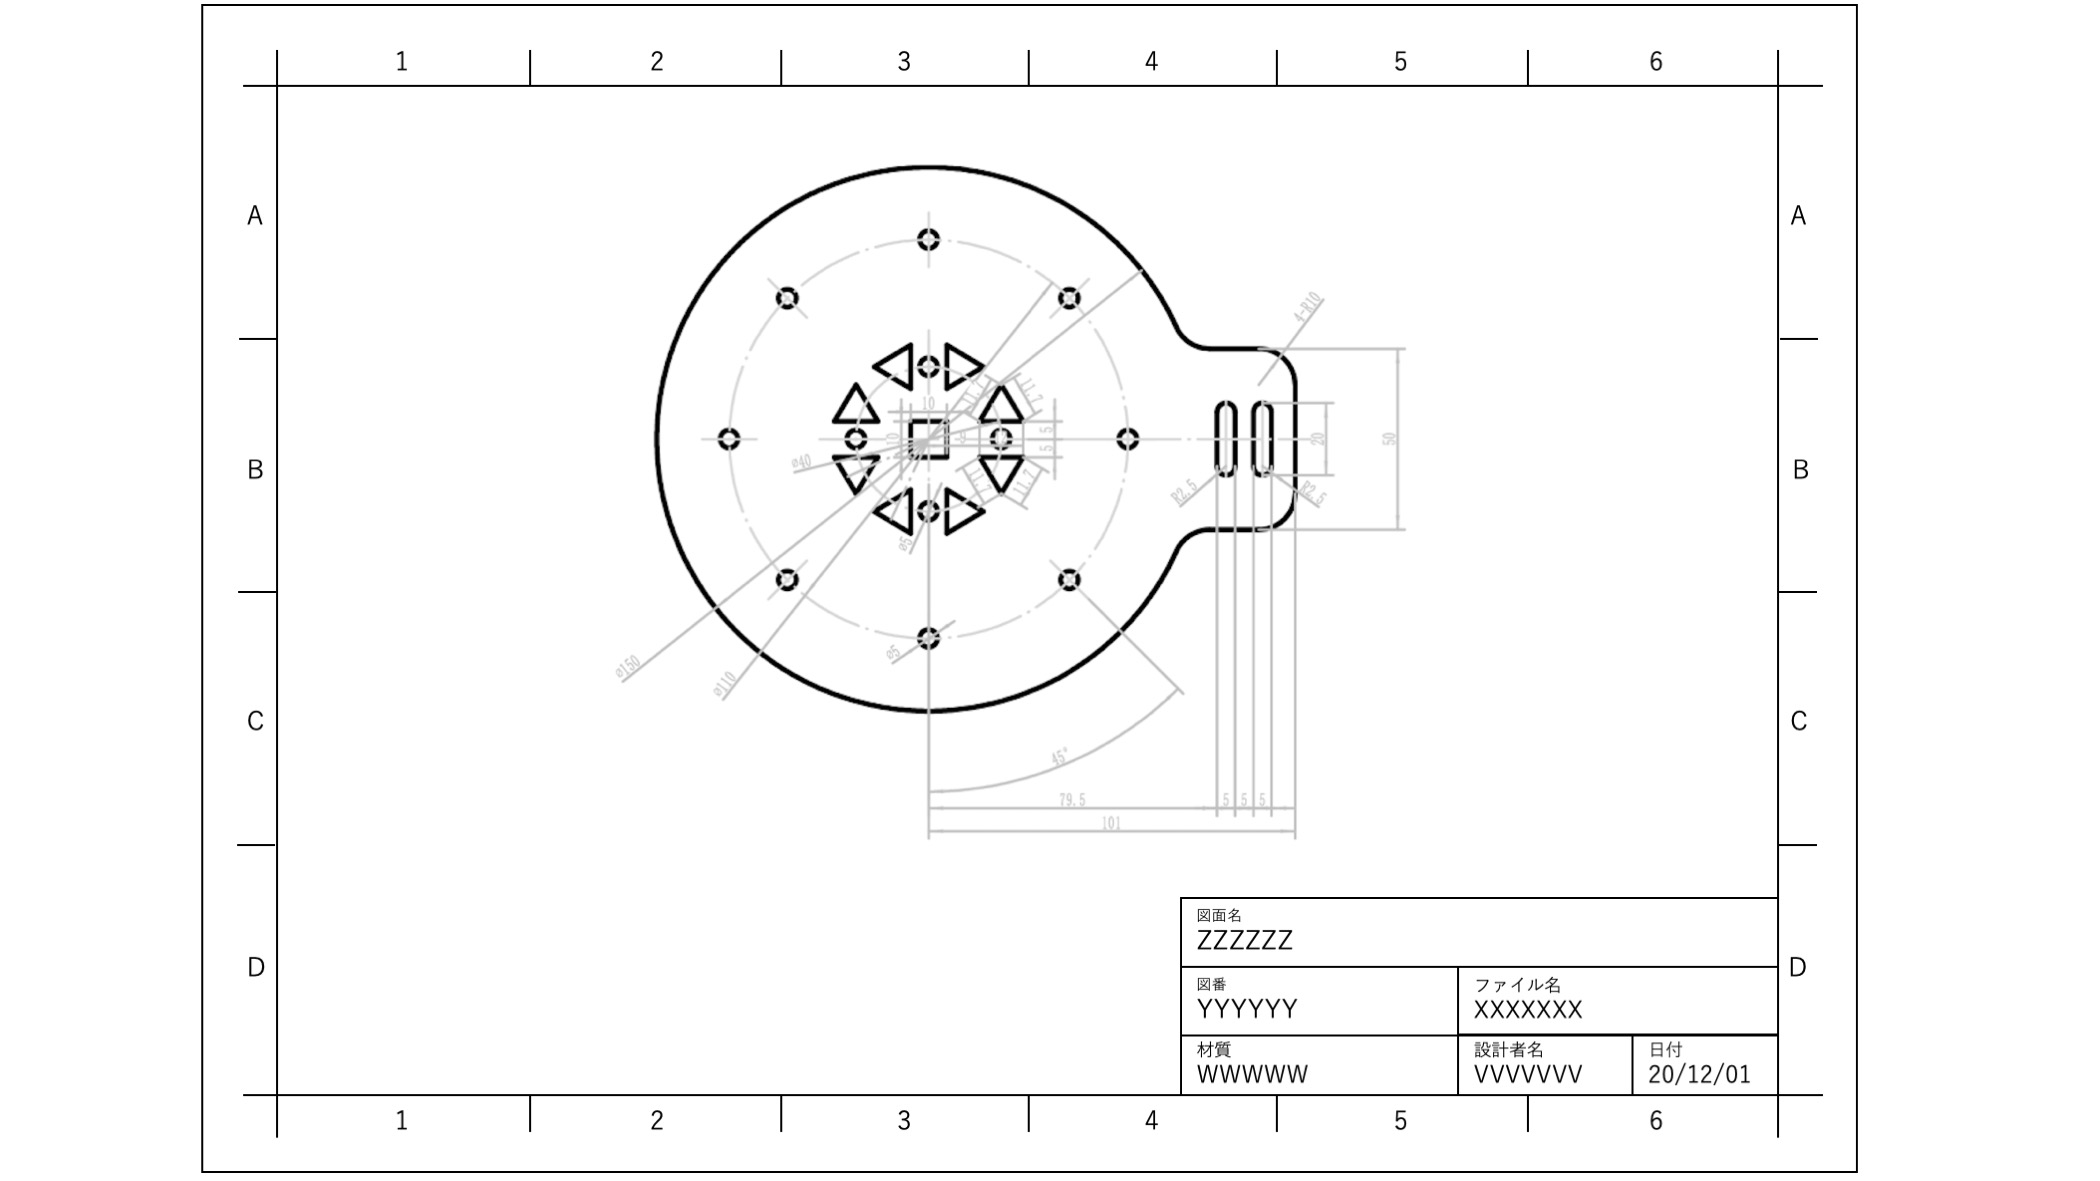circle: (909, 222, 942, 260), (1059, 275, 1085, 314), (914, 345, 945, 376), (914, 619, 943, 652), (1054, 562, 1085, 593), (773, 561, 802, 593), (715, 423, 743, 453), (775, 278, 798, 313), (841, 423, 870, 450), (917, 492, 940, 523), (1116, 425, 1139, 456), (987, 424, 1012, 448)
rectangle: (901, 412, 956, 461)
round_rectangle: (1210, 392, 1236, 485), (1246, 394, 1272, 477)
triangle: (937, 335, 987, 394), (875, 473, 916, 539), (871, 333, 914, 389), (942, 480, 985, 536), (975, 379, 1025, 424), (976, 450, 1028, 493), (834, 376, 875, 427), (832, 450, 875, 487)
